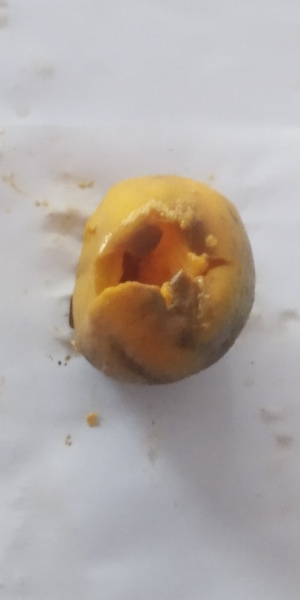BAD: (72, 177, 254, 385)
